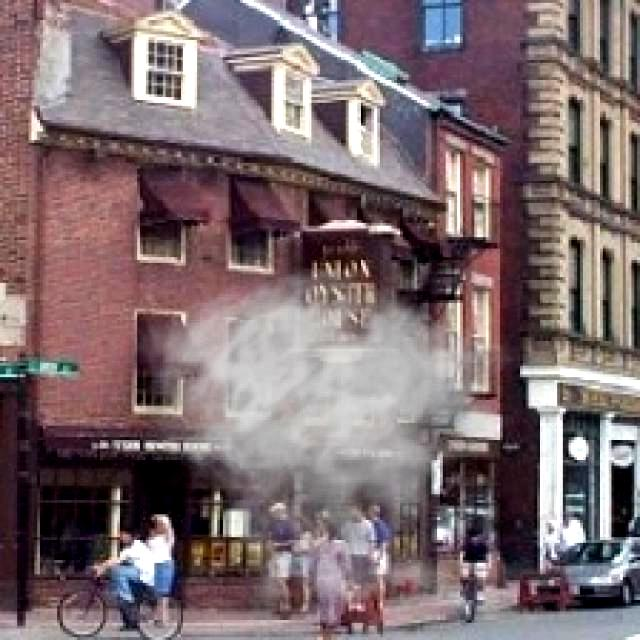Smoke: (134, 266, 520, 637)
